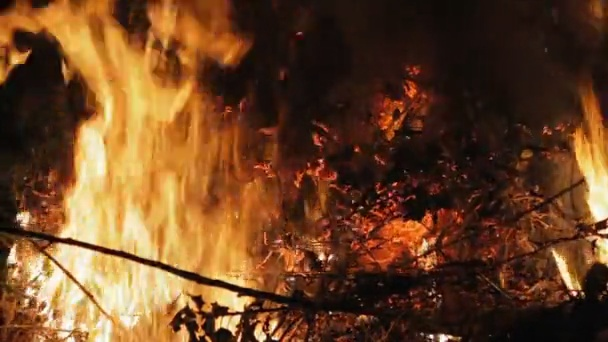fire: (1, 5, 245, 342), (573, 88, 608, 218), (385, 216, 433, 263), (380, 95, 406, 134), (555, 252, 575, 294)
